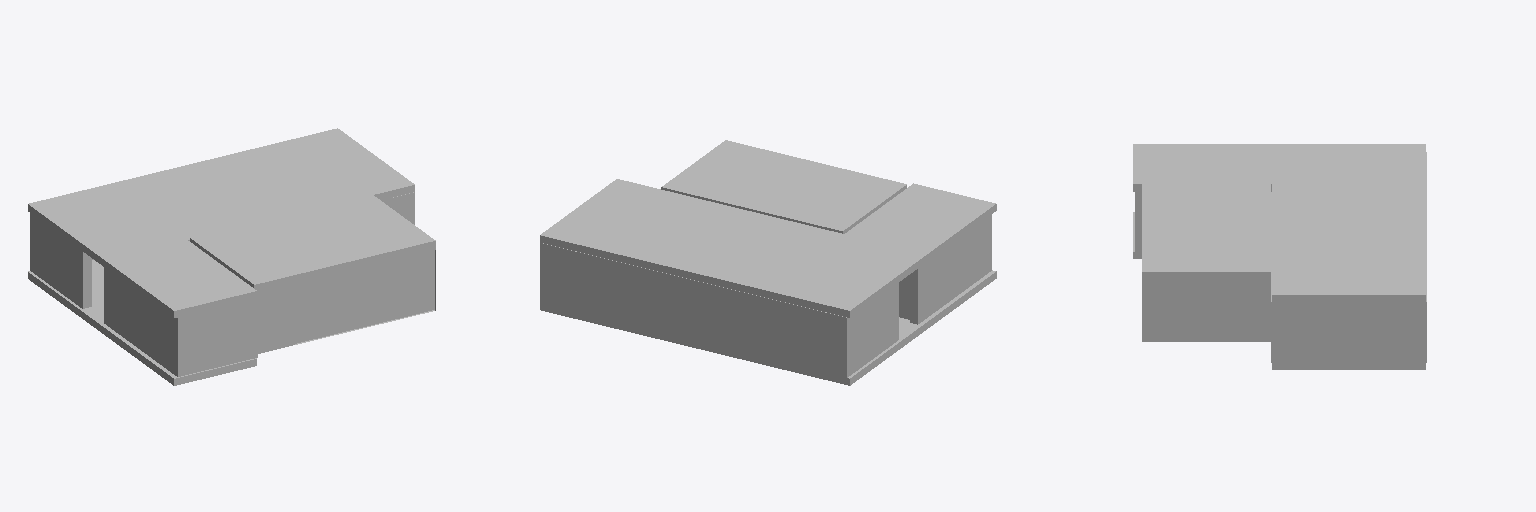
File: lägagbttestest.obj
3 views of the same model, side by side, from view 1: azimuth 30°, elevation 25°; view 2: azimuth 150°, elevation 25°; view 3: azimuth 270°, elevation 25° (orthographic).
Visible parts, largest first — view 1: Cube; view 2: Cube; view 3: Cube.
Part boxes in pixels (left/top/right/bottom): Cube: left=28, top=128, right=435, bottom=385; Cube: left=540, top=140, right=996, bottom=385; Cube: left=1133, top=144, right=1426, bottom=369.
Size of the model in its own units: 11.12 by 2.64 by 9.12.